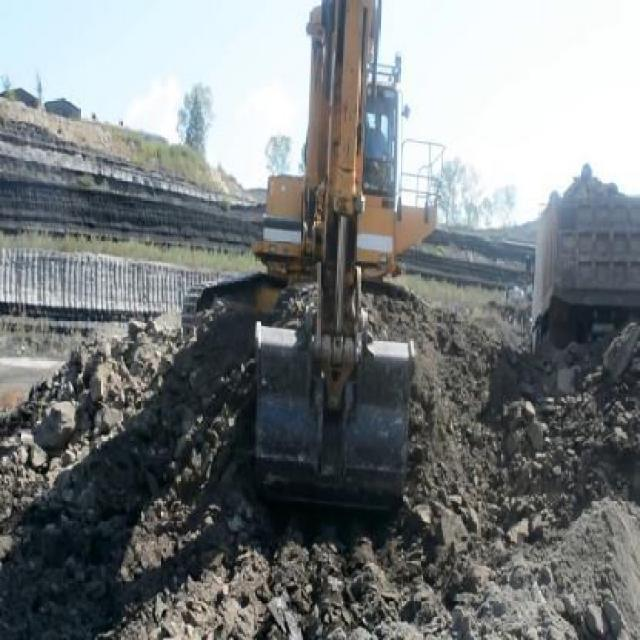Dump Truck: (528, 162, 638, 358)
Excavator: (243, 0, 449, 509)
